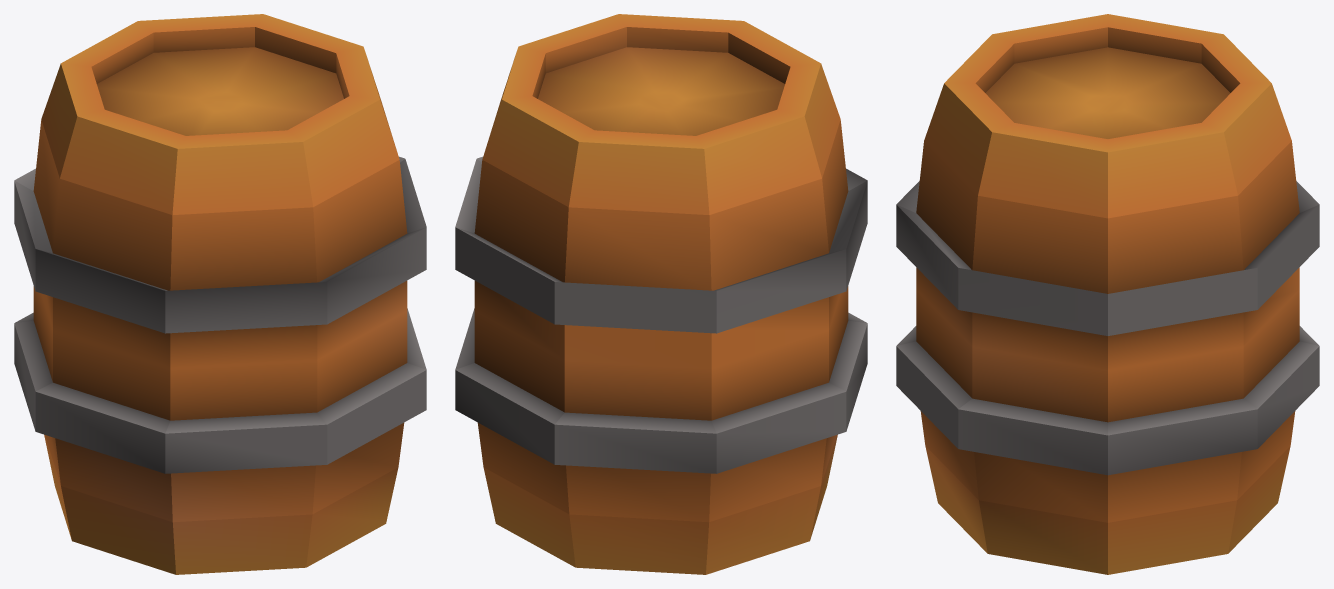
Rendered from barrel.fbx.
The picture shows the model from 3 angles, left to right: view 1: azimuth 30°, elevation 25°; view 2: azimuth 150°, elevation 25°; view 3: azimuth 270°, elevation 25°; orthographic projection.
Parts seen in each view (by area): view 1: Circle.001; view 2: Circle.001; view 3: Circle.001.
Boxes of the visible parts, bbox=[...] form: Circle.001: bbox=[14, 14, 426, 574]; Circle.001: bbox=[455, 14, 867, 574]; Circle.001: bbox=[896, 14, 1319, 574].
Bounding box in the file's own units: 0.7618 × 0.7618 × 0.8335.
